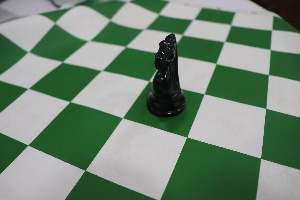black_horse: (140, 22, 192, 131)
